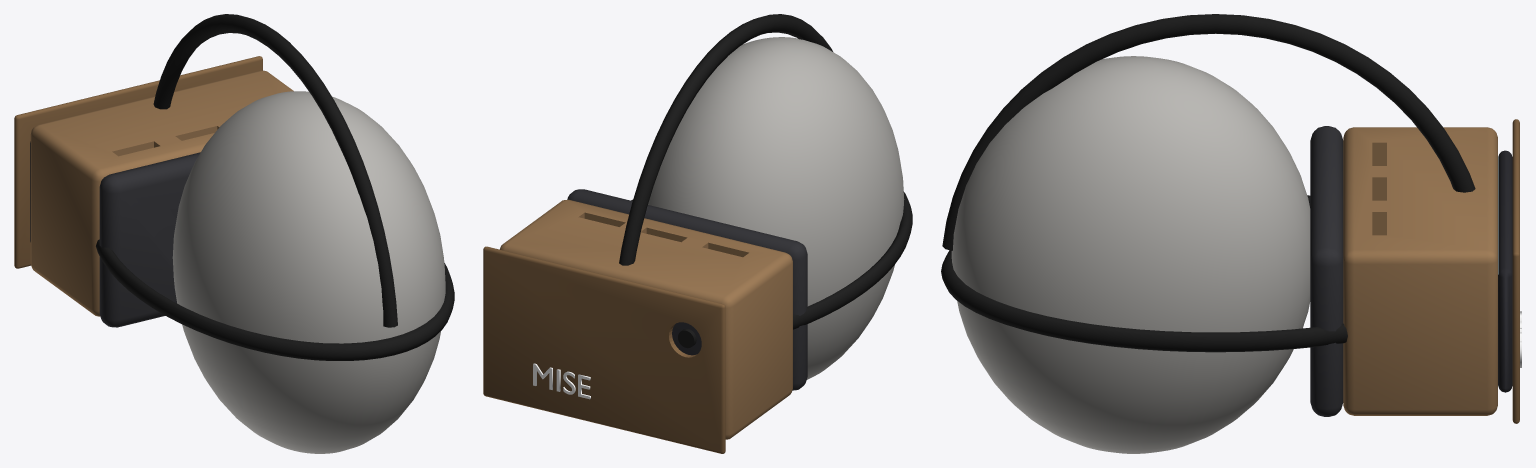
The model's file is visor.glb.
3 views of the same model, side by side, from view 1: azimuth 30°, elevation 25°; view 2: azimuth 150°, elevation 25°; view 3: azimuth 270°, elevation 25° (orthographic). The views are drawn at different scales.
Parts seen in each view (by area): view 1: Maniqui, Caja, Fomi, LigaSuperior, Liga, Tapa; view 2: Maniqui, Tapa, Caja, LigaSuperior, Fomi, Liga, Logo, Celular; view 3: Maniqui, Caja, LigaSuperior, Fomi, Liga, Celular, Tapa.
Part boxes in pixels (x1,y1,x2,y2): Maniqui: [172, 91, 445, 453]; Caja: [30, 70, 293, 316]; Fomi: [99, 152, 200, 327]; LigaSuperior: [153, 14, 397, 327]; Liga: [96, 239, 454, 360]; Tapa: [14, 56, 262, 268]; Maniqui: [648, 37, 904, 379]; Tapa: [483, 246, 725, 453]; Caja: [500, 199, 792, 439]; LigaSuperior: [619, 14, 832, 265]; Fomi: [567, 189, 807, 390]; Liga: [631, 191, 912, 329]; Logo: [533, 363, 590, 399]; Celular: [672, 322, 701, 355]; Maniqui: [951, 56, 1310, 453]; Caja: [1343, 127, 1497, 415]; LigaSuperior: [942, 14, 1475, 250]; Fomi: [1310, 126, 1343, 416]; Liga: [941, 195, 1347, 352]; Celular: [1498, 150, 1512, 392]; Tapa: [1512, 119, 1519, 423].
Bounding box in the file's own units: 0.1914 × 0.261 × 0.3189.
